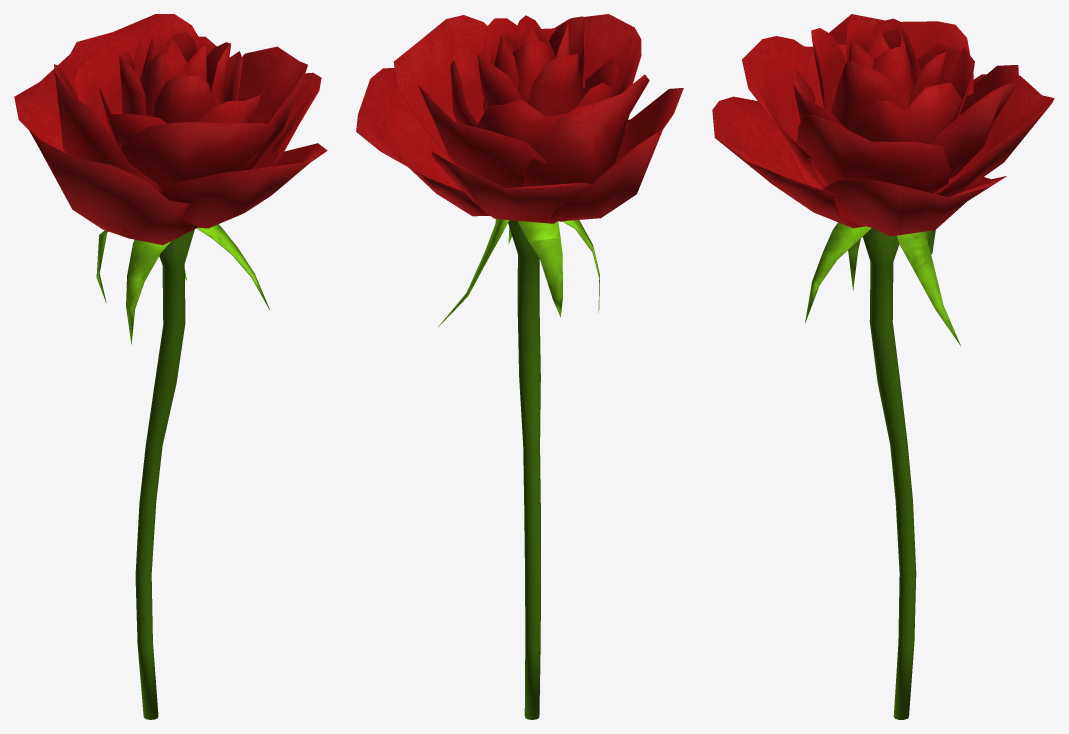
Rendered from Rose 1.fbx.
3 views of the same model, side by side, from view 1: azimuth 30°, elevation 25°; view 2: azimuth 150°, elevation 25°; view 3: azimuth 270°, elevation 25° (orthographic).
Visible parts, largest first — view 1: Rose; view 2: Rose; view 3: Rose.
Part boxes in pixels (x1,y1,x2,y2): Rose: (14, 14, 327, 719); Rose: (356, 14, 683, 719); Rose: (712, 14, 1054, 719).
Size of the model in its own units: 598 by 1376 by 616.
3 materials, 3 textured.
